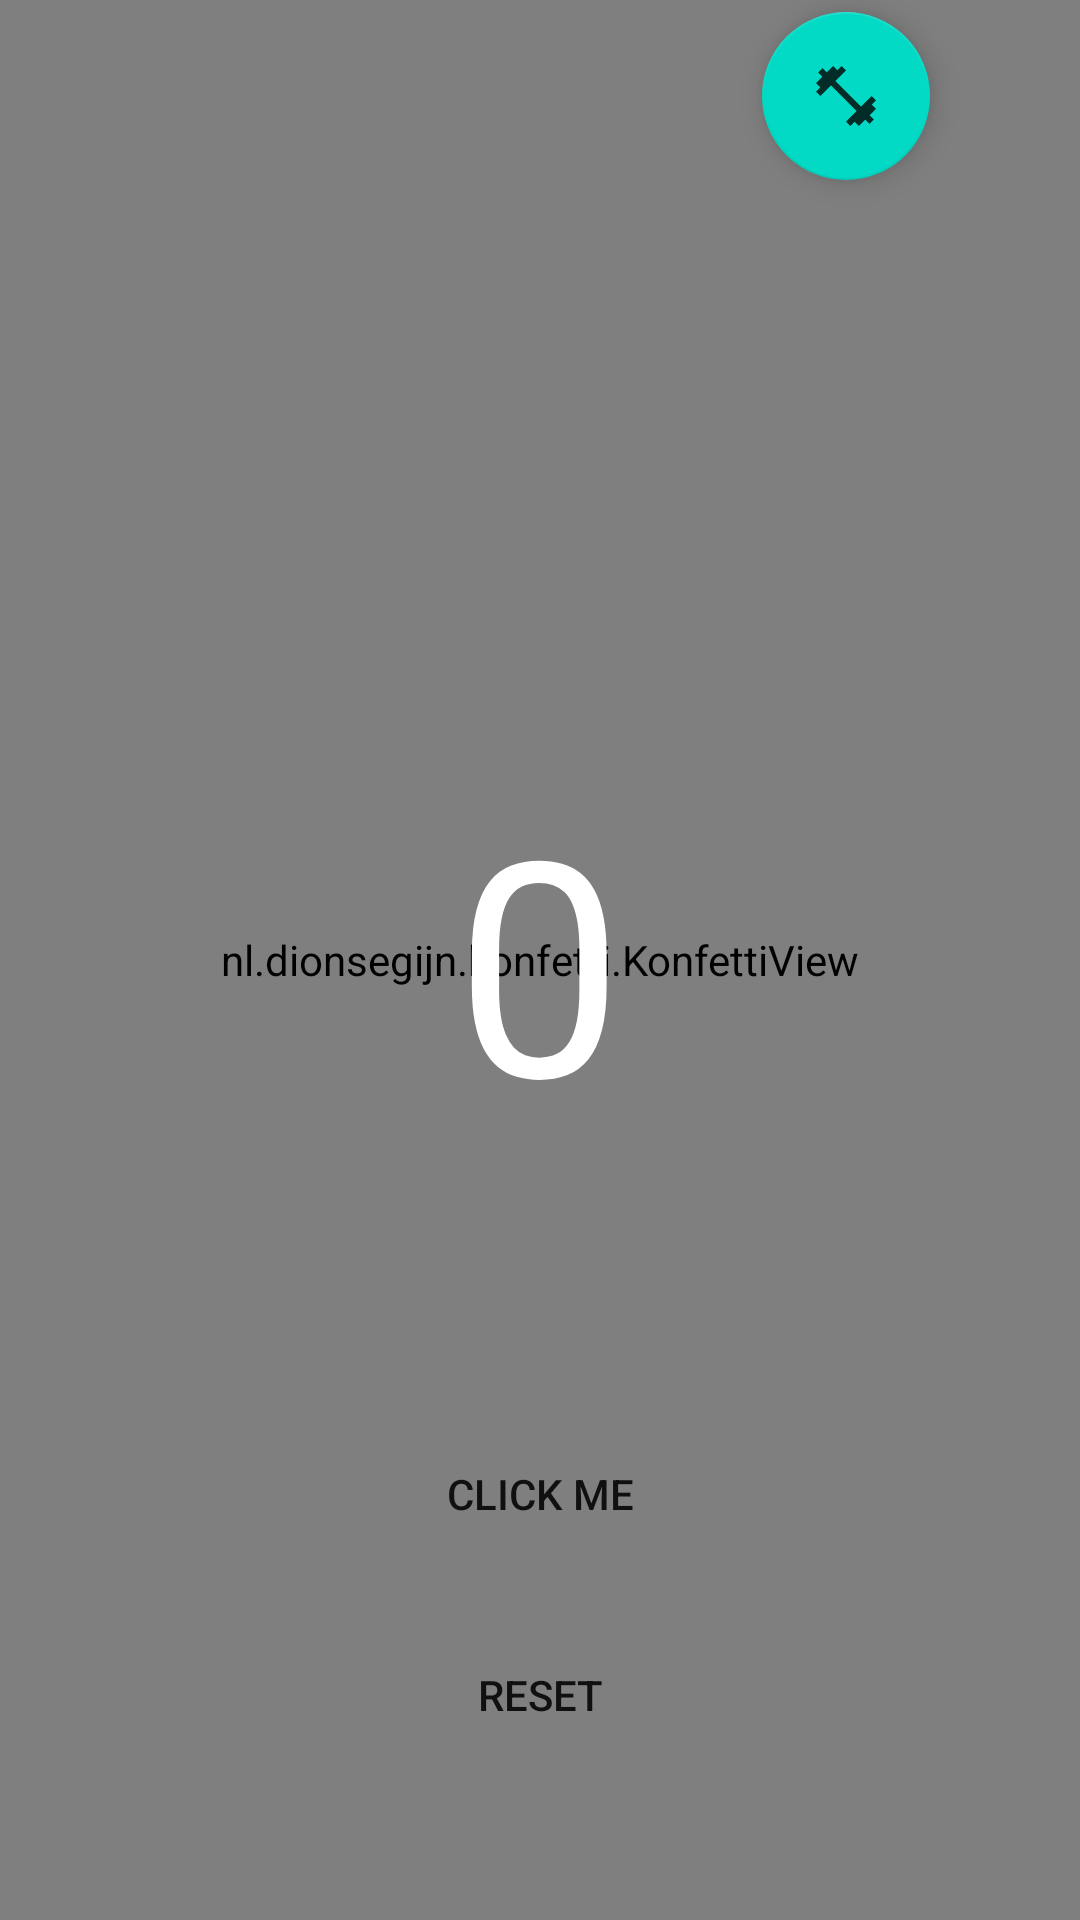

Screen size 1080×1920. Icon name, then its box in pixels as [left=x1, top=y1, right=x2, bottom=y2]:
practice: [left=762, top=12, right=930, bottom=180]
